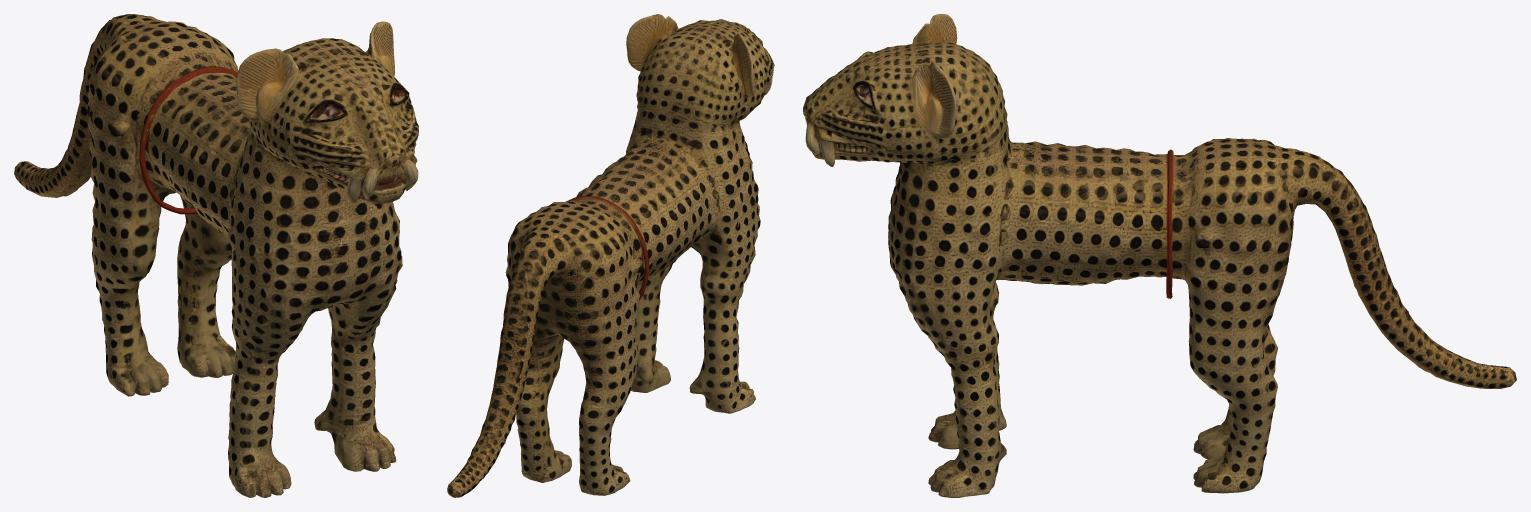
File: benin-leopard-3d.glb
3 renders of one model, left to right at view 1: azimuth 30°, elevation 25°; view 2: azimuth 150°, elevation 25°; view 3: azimuth 270°, elevation 25°, orthographic. The views are drawn at different scales.
Parts seen in each view (by area): view 1: tripo_node_c9fb38bf-3340-4c85-86a8-f93d2a4520de; view 2: tripo_node_c9fb38bf-3340-4c85-86a8-f93d2a4520de; view 3: tripo_node_c9fb38bf-3340-4c85-86a8-f93d2a4520de.
Part boxes in pixels (bbox=[...]): tripo_node_c9fb38bf-3340-4c85-86a8-f93d2a4520de: bbox=[14, 14, 418, 497]; tripo_node_c9fb38bf-3340-4c85-86a8-f93d2a4520de: bbox=[447, 14, 774, 497]; tripo_node_c9fb38bf-3340-4c85-86a8-f93d2a4520de: bbox=[803, 14, 1516, 497].
Size of the model in its own units: 0.2405 by 0.6624 by 1.
Materials: 1 (1 with a texture image).
